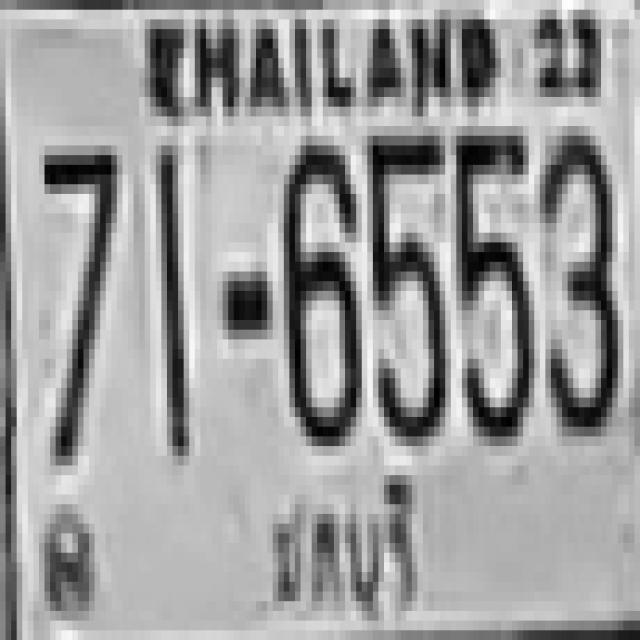1: (153, 145, 186, 456)
3: (534, 126, 612, 427)
5: (364, 126, 442, 436), (451, 126, 528, 436)
6: (278, 136, 356, 436)
7: (39, 136, 117, 456), (42, 136, 114, 359)
Chonburi: (256, 467, 421, 628)
